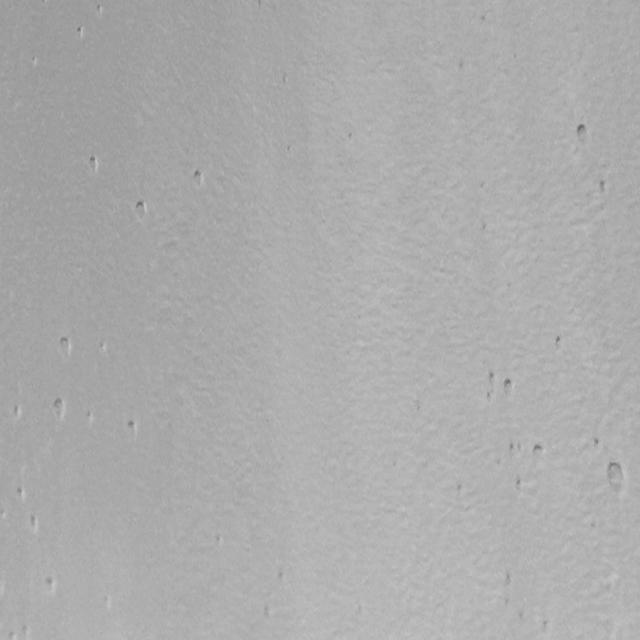pin holes: (602, 458, 628, 494), (572, 121, 592, 146), (56, 334, 74, 361), (132, 198, 152, 222), (50, 394, 68, 420), (188, 168, 208, 190), (502, 376, 519, 399), (531, 442, 548, 464), (594, 178, 610, 200), (552, 332, 568, 354), (87, 154, 103, 175), (125, 417, 141, 438), (44, 575, 58, 595), (485, 369, 499, 389), (508, 440, 522, 458), (27, 514, 40, 533), (11, 404, 25, 421), (15, 485, 29, 502), (97, 338, 110, 356), (591, 436, 604, 452), (75, 24, 88, 40), (92, 4, 105, 20), (19, 624, 32, 640), (84, 408, 96, 425), (514, 476, 526, 492), (28, 54, 40, 70), (281, 74, 291, 91), (7, 628, 20, 640), (346, 130, 355, 147), (484, 392, 494, 407), (276, 573, 286, 586), (505, 572, 513, 587), (542, 618, 550, 633), (264, 605, 269, 619), (287, 144, 294, 154), (216, 535, 220, 546)
